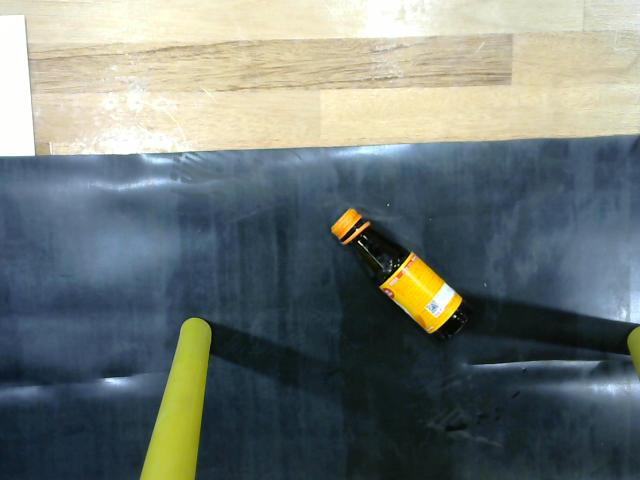glass: (322, 201, 471, 351)
